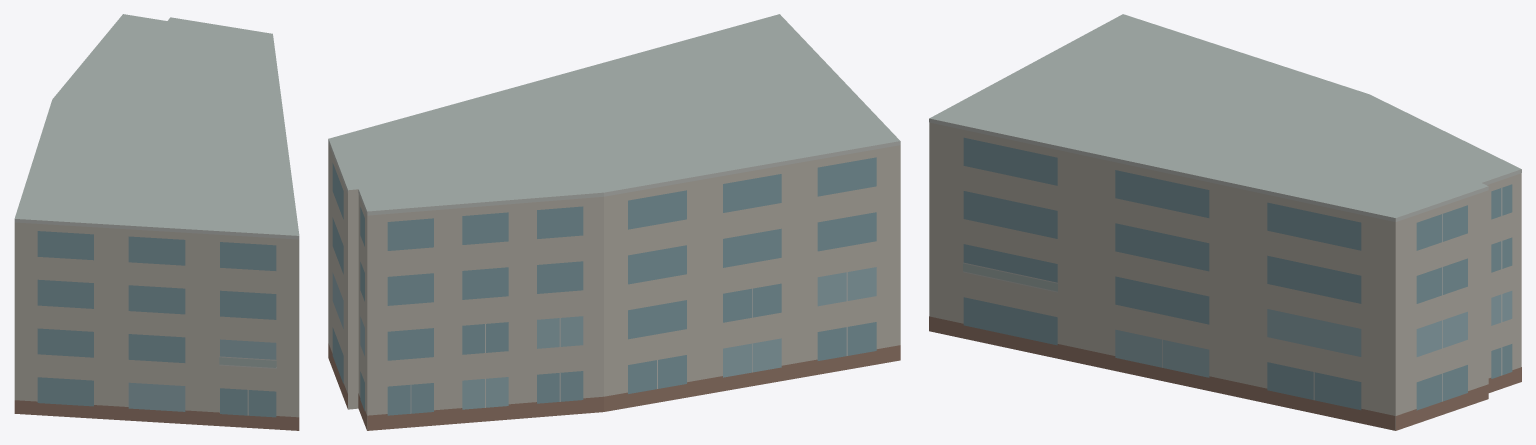
Rendered from survey-upis-32501300.glb.
The picture shows the model from 3 angles, left to right: view 1: azimuth 30°, elevation 25°; view 2: azimuth 150°, elevation 25°; view 3: azimuth 270°, elevation 25°; orthographic projection. The views are drawn at different scales.
Visible parts, largest first — view 1: survey-upis-32501300.tmp; view 2: survey-upis-32501300.tmp; view 3: survey-upis-32501300.tmp.
Part boxes in pixels (x1,y1,x2,y2): survey-upis-32501300.tmp: (14, 14, 299, 430); survey-upis-32501300.tmp: (328, 14, 900, 430); survey-upis-32501300.tmp: (929, 14, 1521, 430).
Size of the model in its own units: 26.76 by 13 by 32.83.
